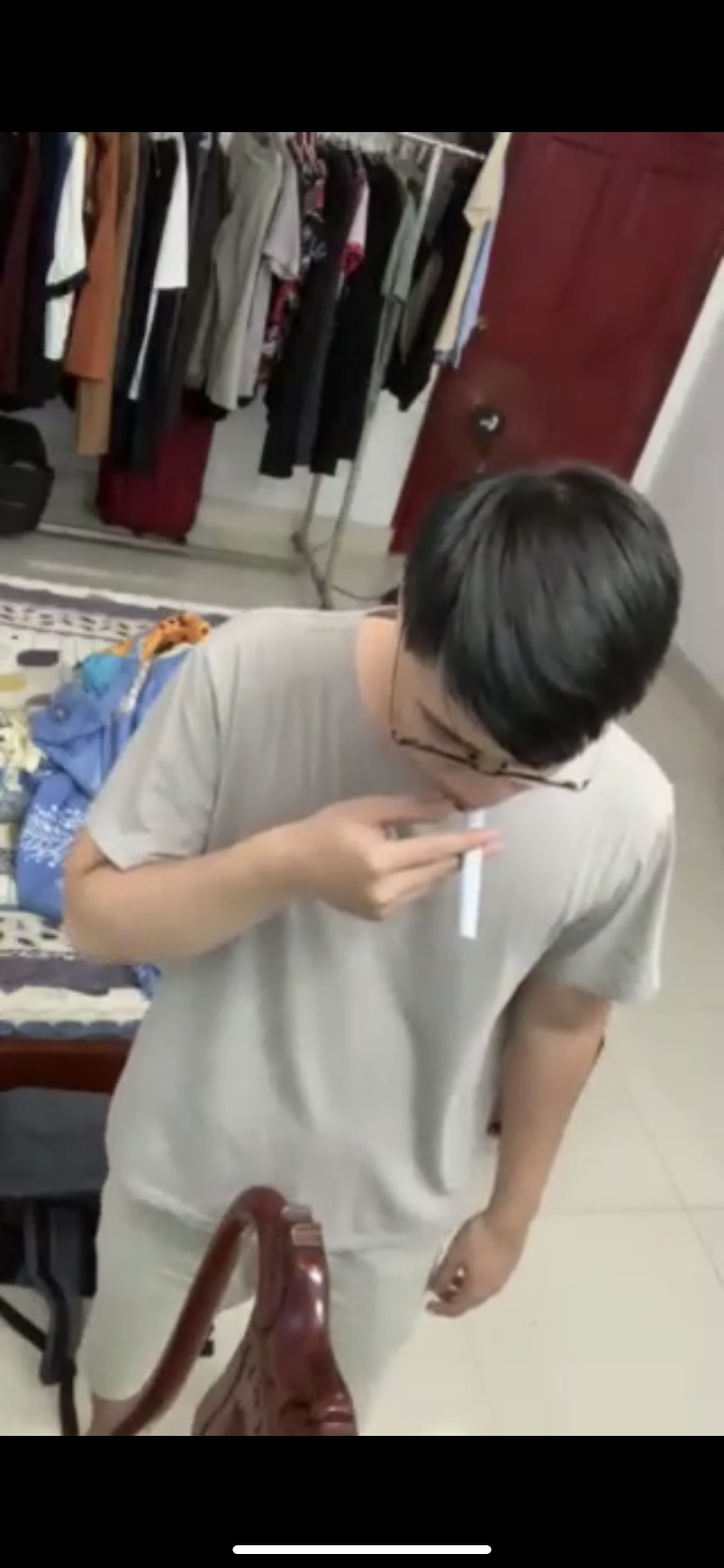cigarette: (461, 795, 498, 937)
person: (67, 406, 694, 1418)
